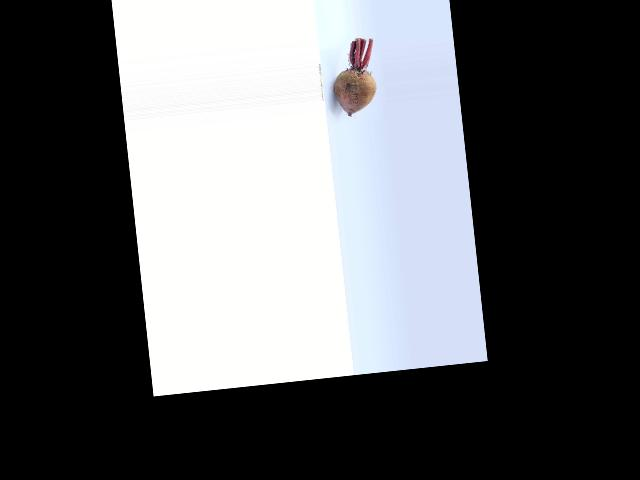beet: (329, 37, 379, 116)
